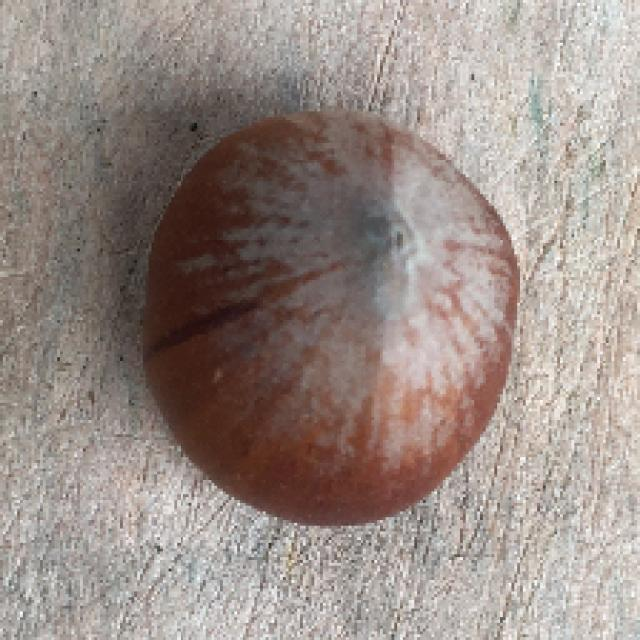qualityHazelnut: (136, 108, 521, 534)
